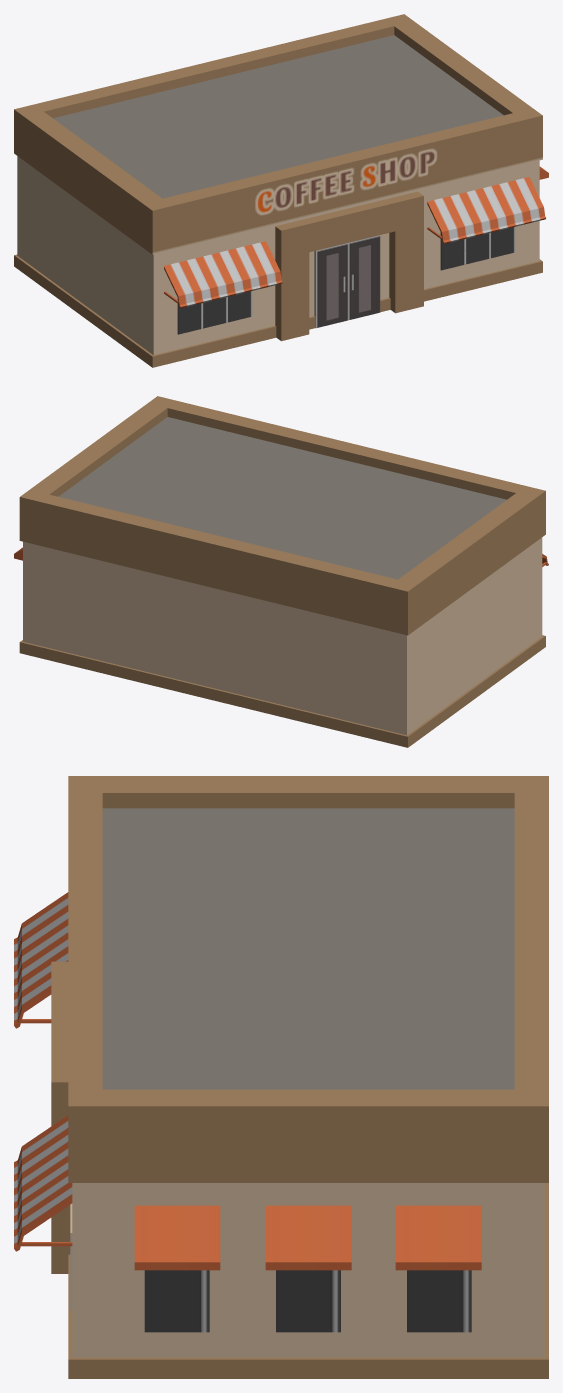
The model's file is Building_Coffee Shop.fbx.
3 views of the same model, one above another, from view 1: azimuth 30°, elevation 25°; view 2: azimuth 150°, elevation 25°; view 3: azimuth 270°, elevation 25° (orthographic). The views are drawn at different scales.
Visible parts, largest first — view 1: Building_Coffee Shop; view 2: Building_Coffee Shop; view 3: Building_Coffee Shop.
Part boxes in pixels (box(x1,y1,x2,y2)): Building_Coffee Shop: box(14, 14, 548, 367); Building_Coffee Shop: box(14, 396, 548, 747); Building_Coffee Shop: box(14, 776, 548, 1378).
Bounding box in the file's own units: 1938 × 700 × 1246.
